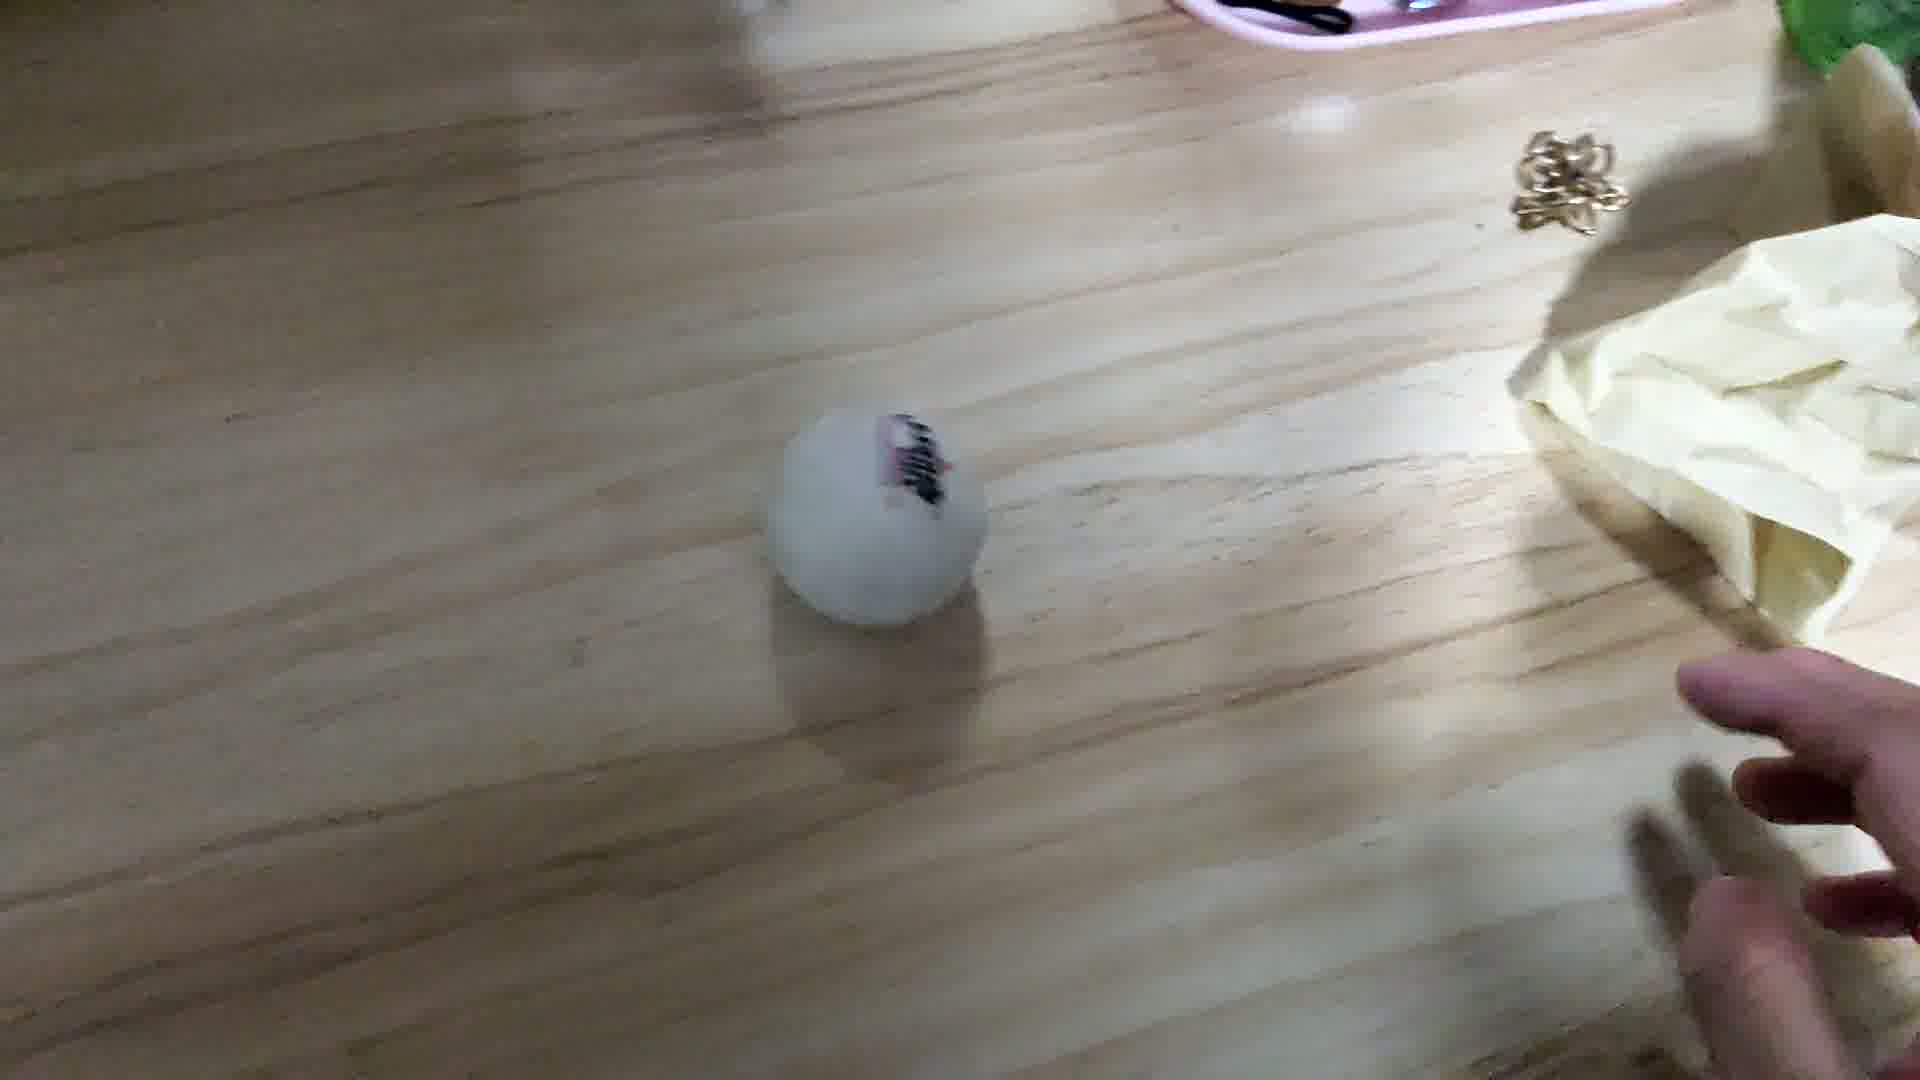Ball: (764, 411, 985, 632)
